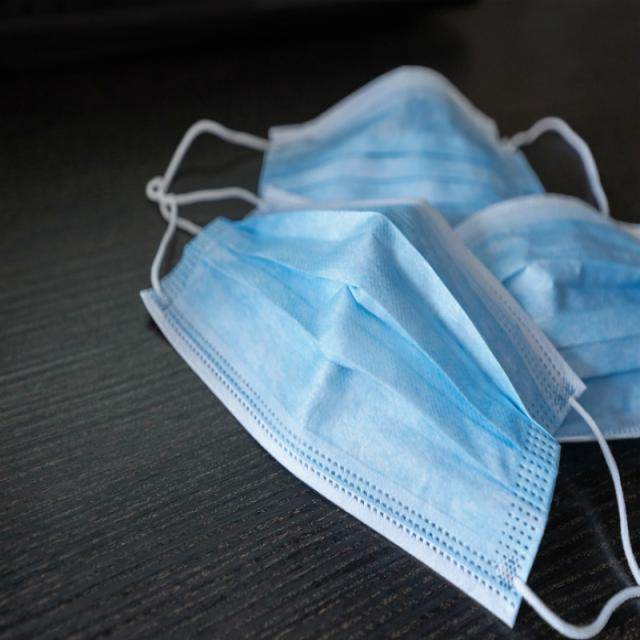face mask: (138, 97, 640, 640)
